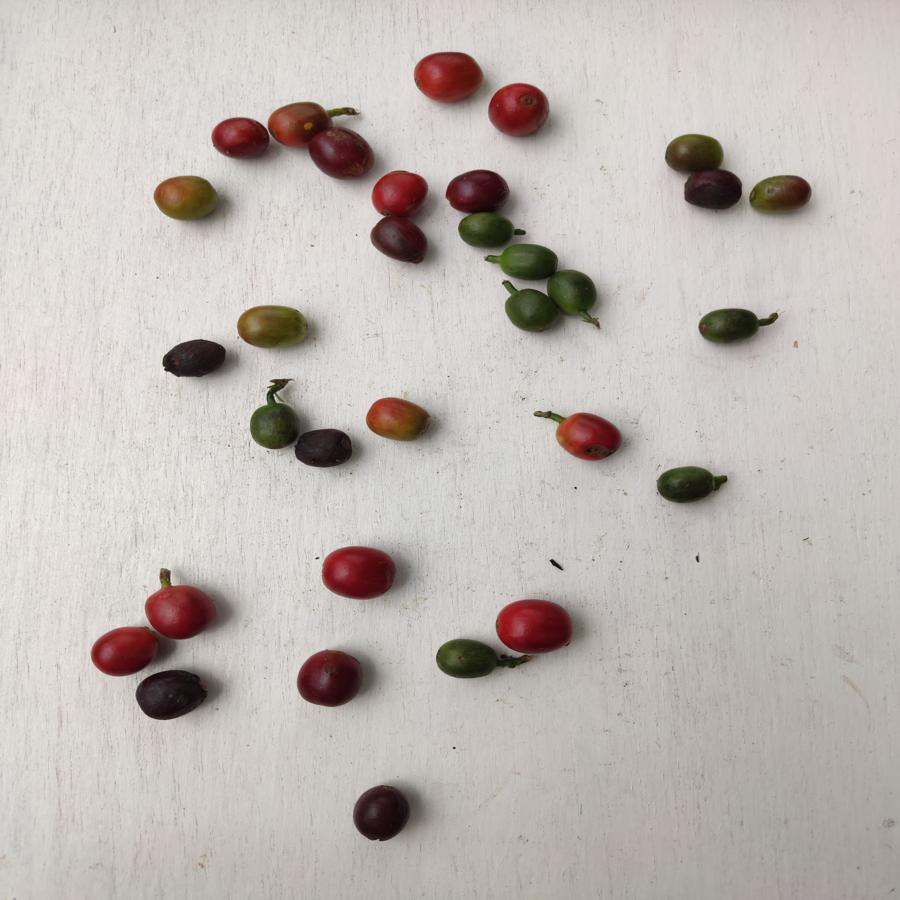Inmaduro: (432, 639, 496, 679), (694, 307, 764, 343), (502, 289, 559, 333), (547, 271, 599, 316), (498, 244, 559, 282), (248, 404, 299, 449), (656, 466, 716, 504), (459, 212, 514, 249)
Maduro: (321, 544, 399, 602), (495, 598, 574, 653), (141, 584, 217, 641), (410, 49, 484, 106), (487, 81, 553, 137), (556, 411, 622, 464), (90, 626, 158, 675), (371, 169, 428, 218), (213, 116, 268, 161)
Pinton: (153, 175, 221, 224), (237, 306, 311, 350), (367, 397, 432, 443), (749, 173, 812, 216), (664, 132, 726, 173), (269, 101, 329, 141)
Sobremaduro: (296, 650, 366, 708), (134, 669, 209, 721), (308, 126, 376, 180), (350, 786, 411, 841), (368, 217, 429, 266), (446, 169, 511, 213), (163, 338, 226, 379), (296, 429, 355, 469), (684, 172, 743, 209)
